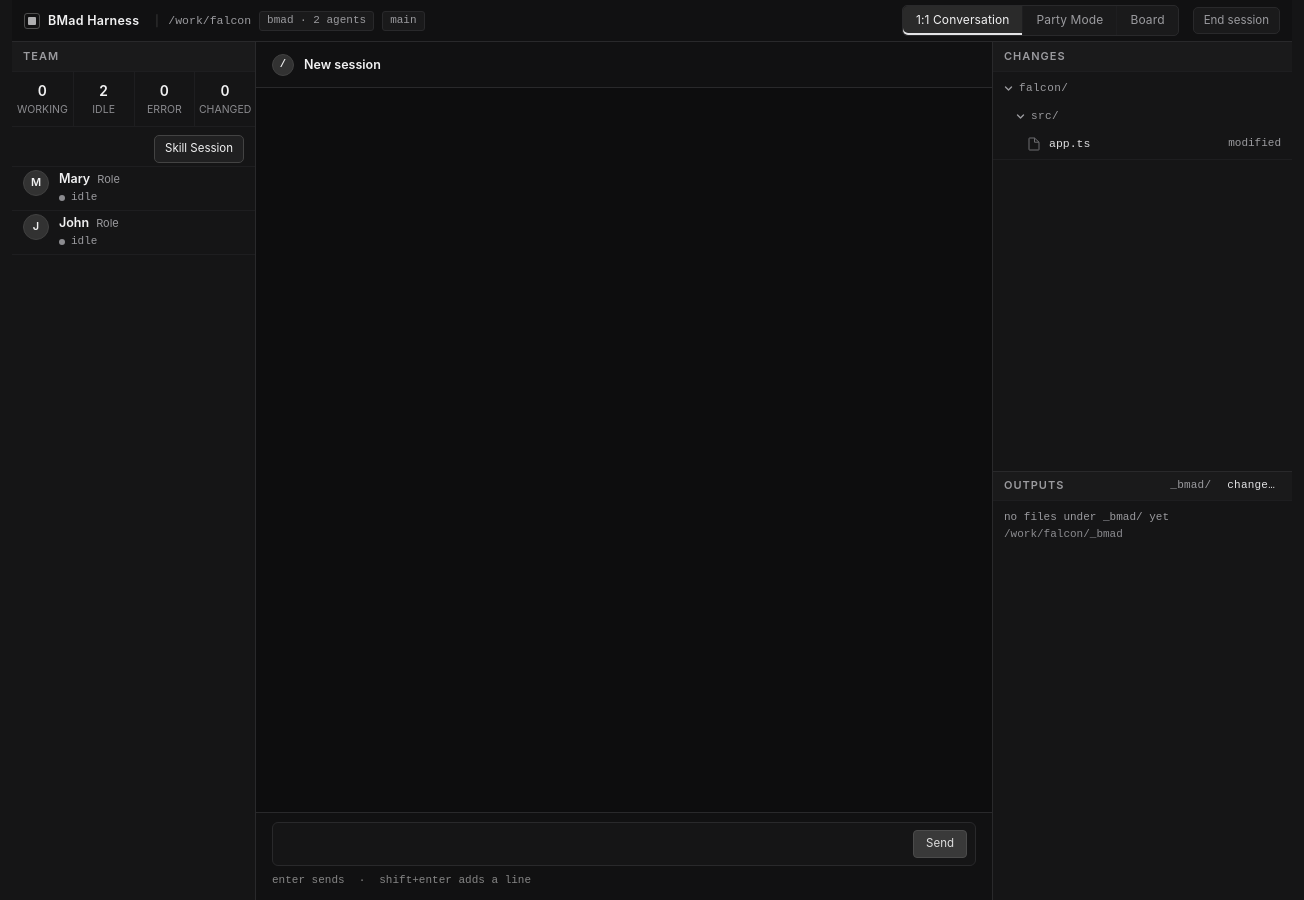
Scenario: App, a thread for each persona (Story 8.1) › reads a persona whose others have turns but not itself as an empty chat that shows the thread introduction
The image size is (1304, 900).
Click the button "M Mary Role idle".
click(134, 189)  # box [12,167,255,211]
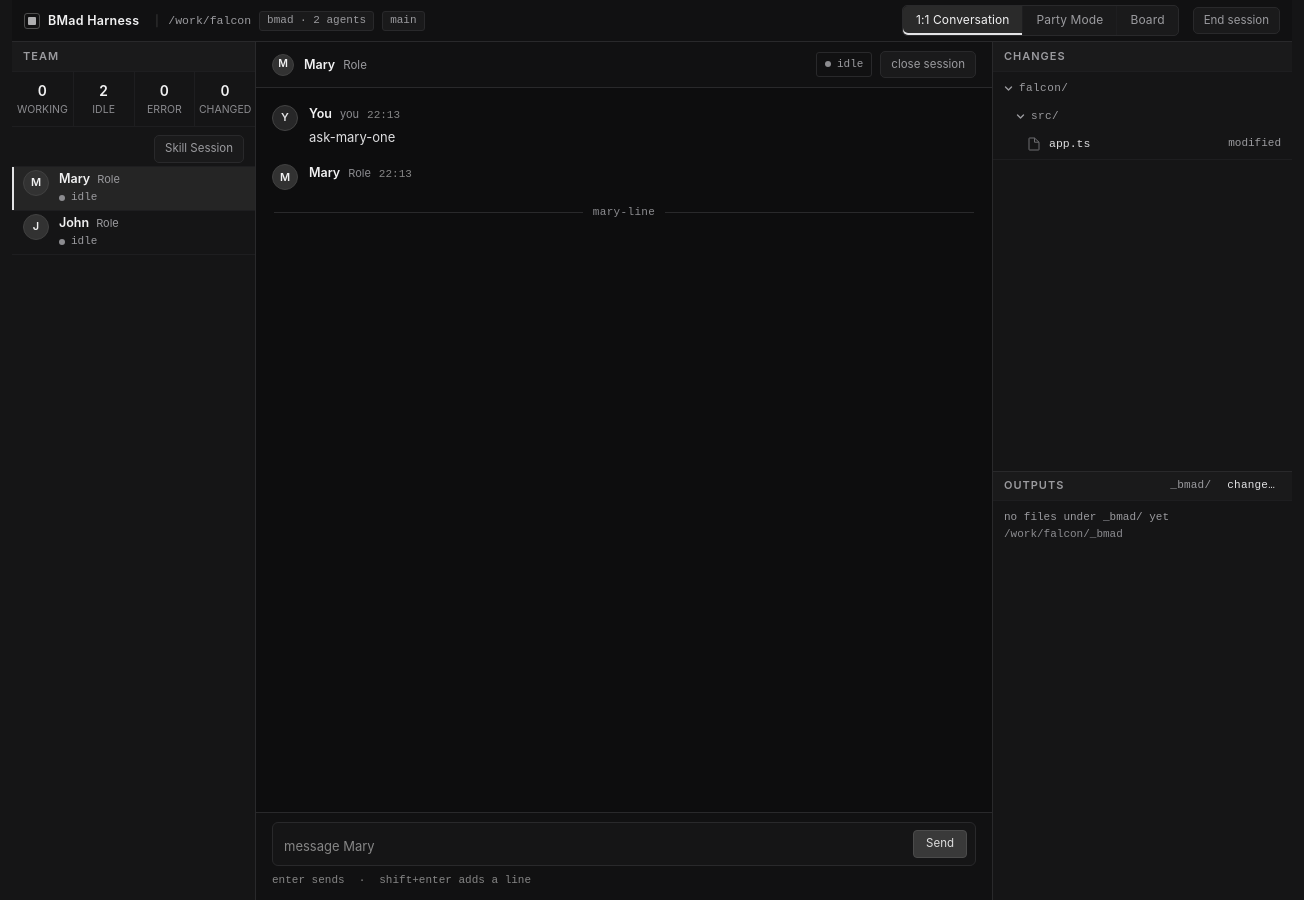
Click the button "J John Role idle".
click(134, 233)  # box [12,211,255,255]
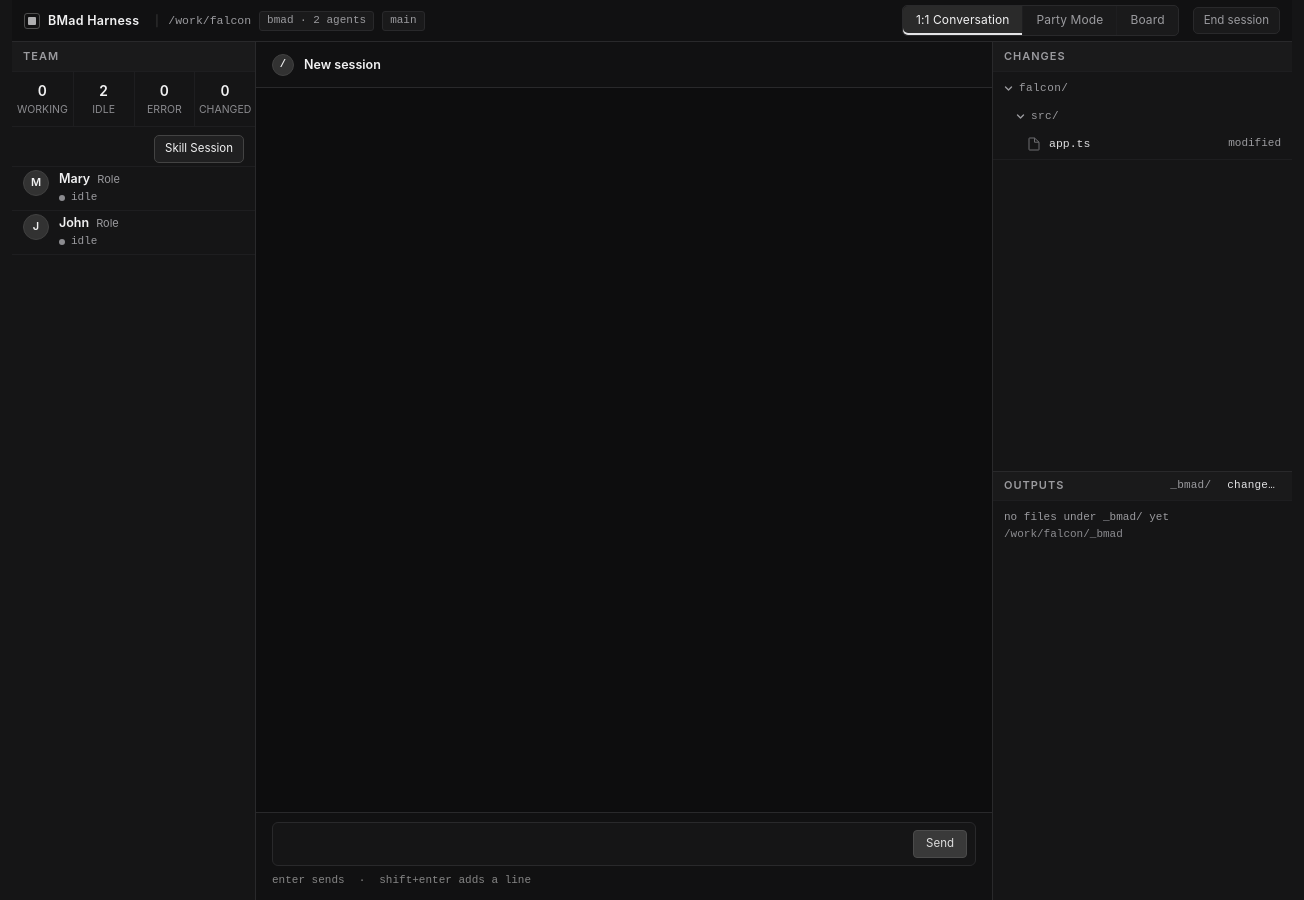
Click the button "J John Role idle".
click(134, 233)  # box [12,211,255,255]
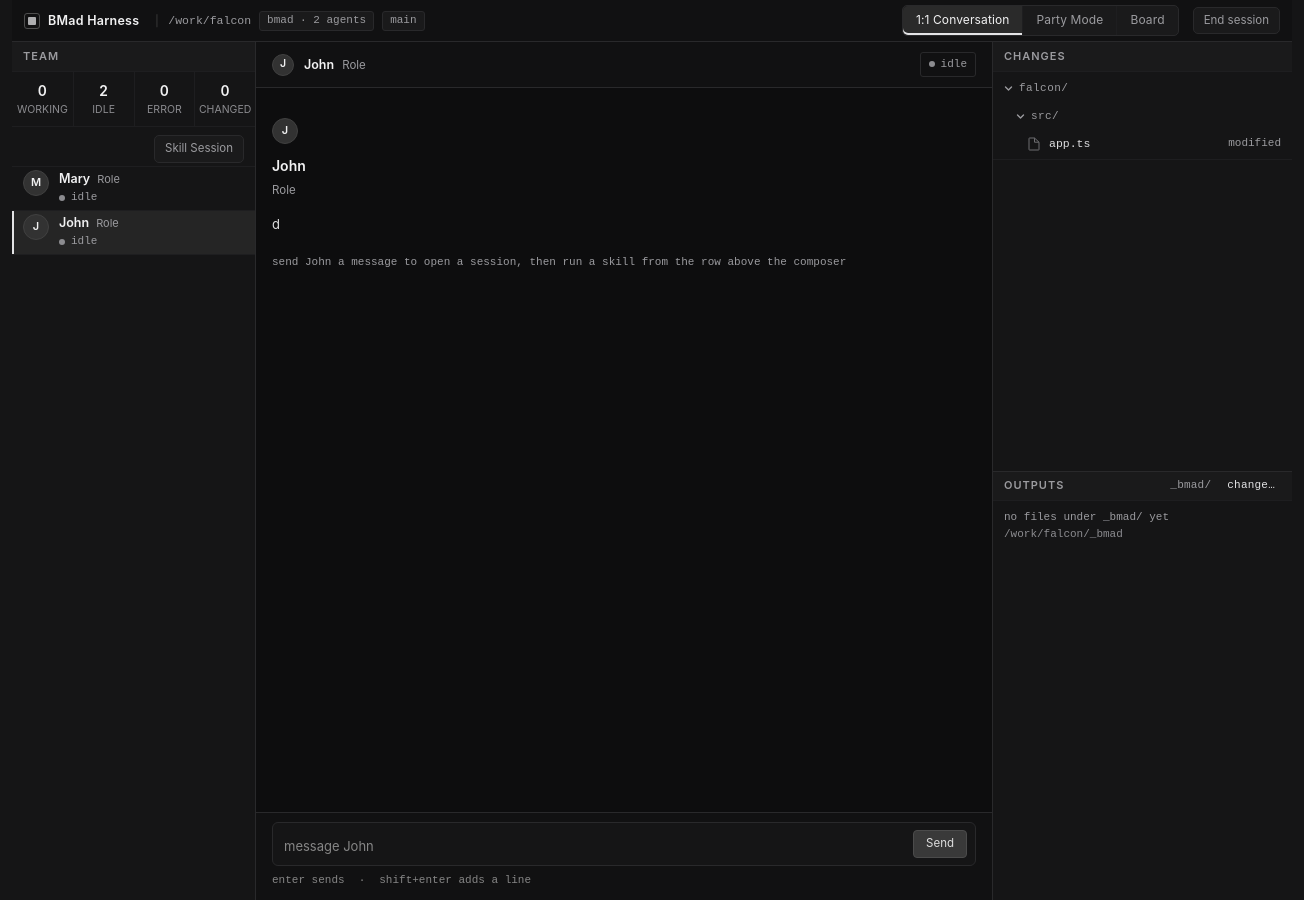
expect the element with class "thread-intro" is shown: met, box [272,104,862,285]
